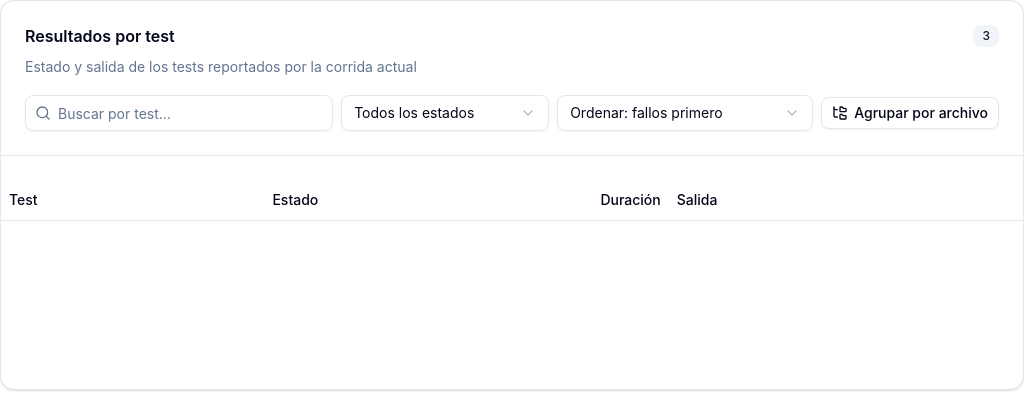
Test case: ResultsTable › ofrece limpiar filtros cuando ningún resultado coincide
In the field named "Buscar test": (179, 113) [25,95,333,131], type "inexistente"
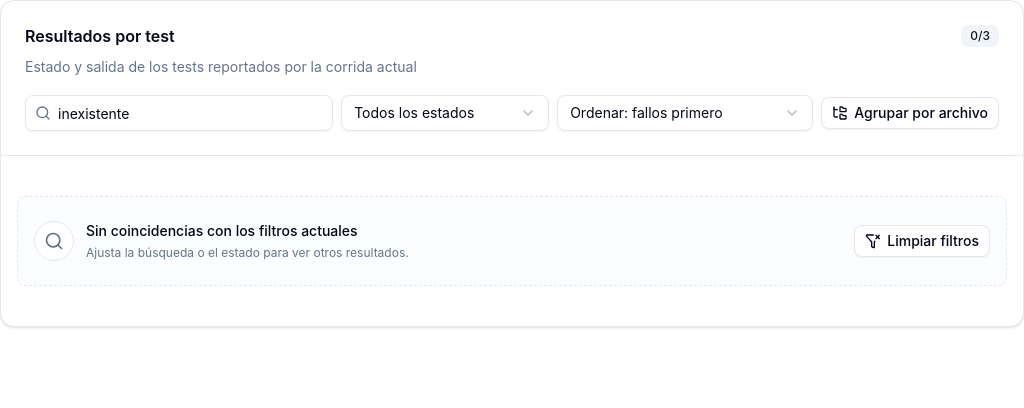
Expected: the text "Sin coincidencias con los filtros actuales" is shown, [86,222,358,239]
Expected: the 6th icon is shown, [865,233,881,249]
Click the button "Limpiar filtros": (922, 241) [854,225,990,257]
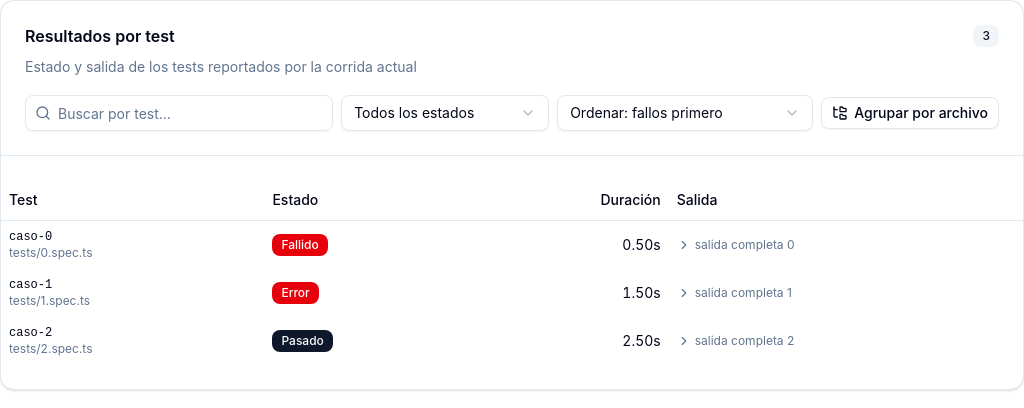
Expected: the text "Sin coincidencias con los filtros actuales" is gone
Expected: the text "caso-0" is shown, [9,230,52,244]
